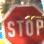Stop sign: (0, 0, 43, 43)
